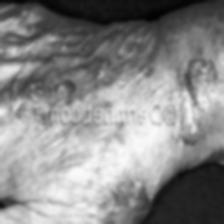Non-Cancerous Skin Condition: (169, 51, 221, 147), (93, 176, 153, 224), (12, 78, 74, 124)
